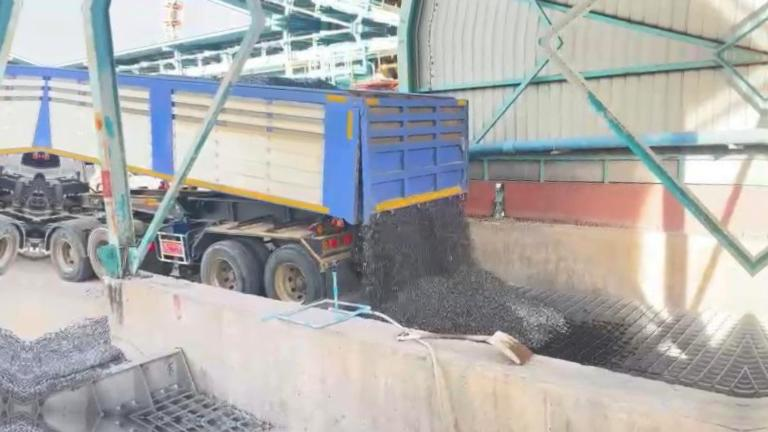gravel: (355, 198, 567, 348), (24, 317, 124, 401), (238, 75, 338, 89)
